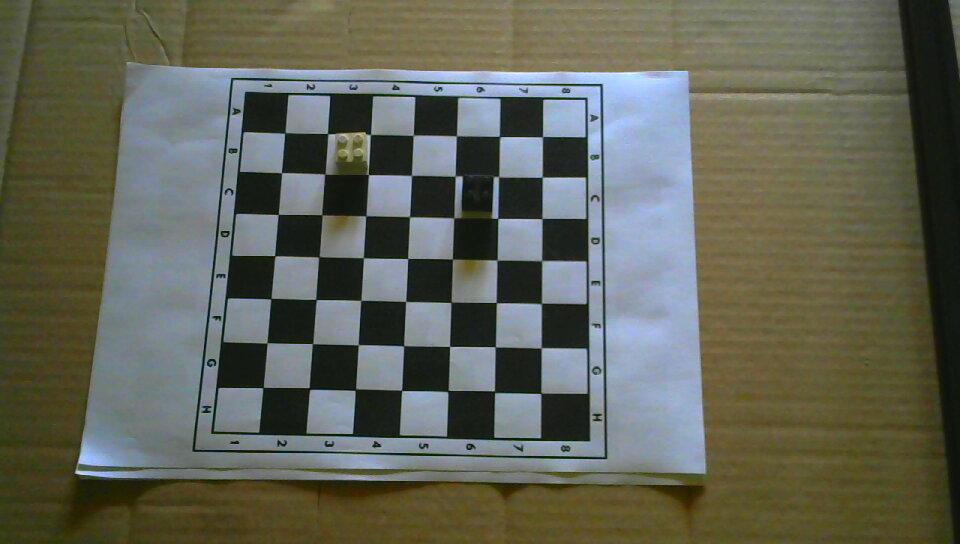bp: (460, 172, 495, 213)
wp: (332, 130, 369, 172)
